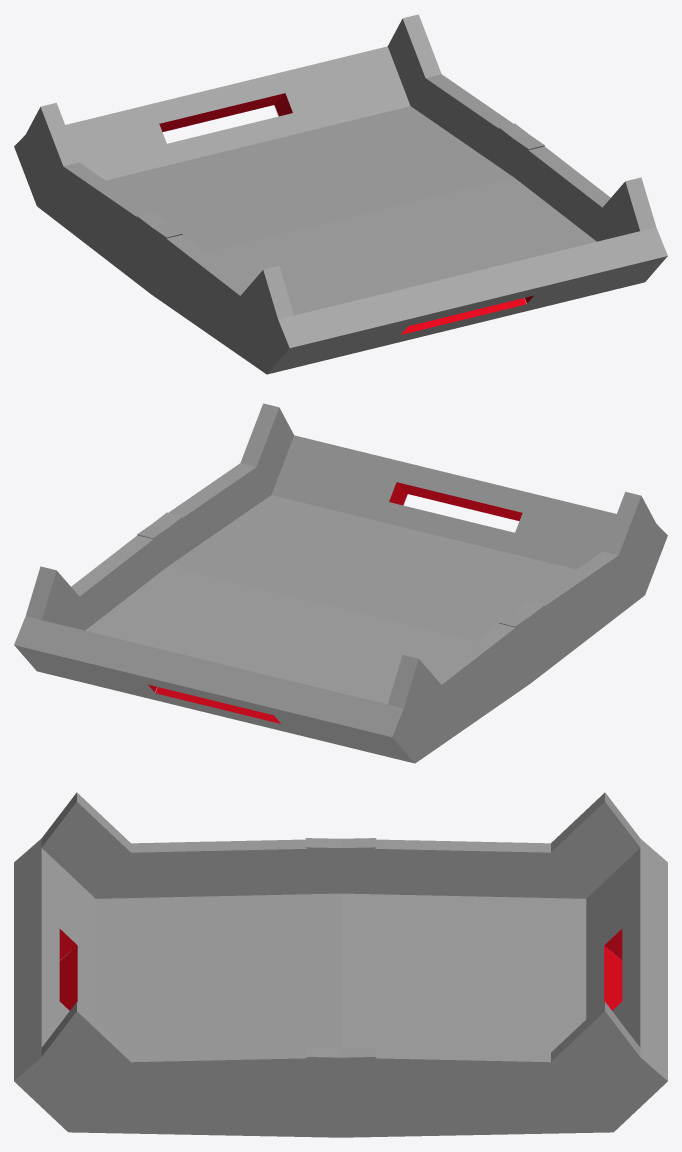
File: Modern_Tray.fbx
3 views of the same model, one above another, from view 1: azimuth 30°, elevation 25°; view 2: azimuth 150°, elevation 25°; view 3: azimuth 270°, elevation 25° (orthographic). The views are drawn at different scales.
Parts seen in each view (by area): view 1: Cube; view 2: Cube; view 3: Cube.
Part boxes in pixels (<box>): Cube: <box>14,14,667,374</box>; Cube: <box>14,403,667,763</box>; Cube: <box>14,792,667,1137</box>.
Size of the model in its own units: 200 by 53.93 by 253.
